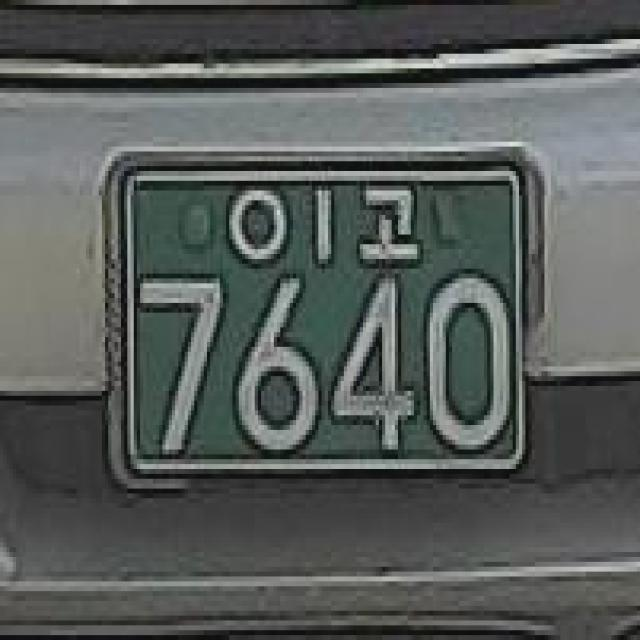illegal_plate: (93, 130, 549, 510)
